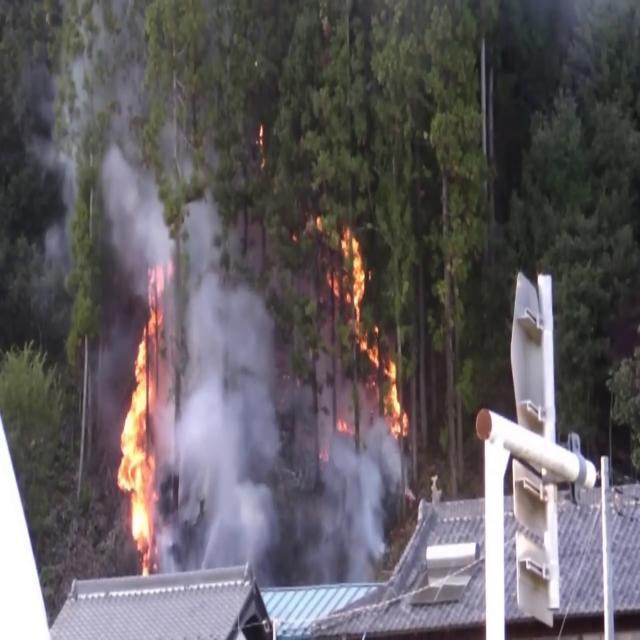Fire: (112, 311, 164, 568), (334, 220, 373, 350), (381, 346, 410, 444)
Smoke: (40, 0, 243, 288), (164, 229, 308, 576), (290, 358, 398, 584)
